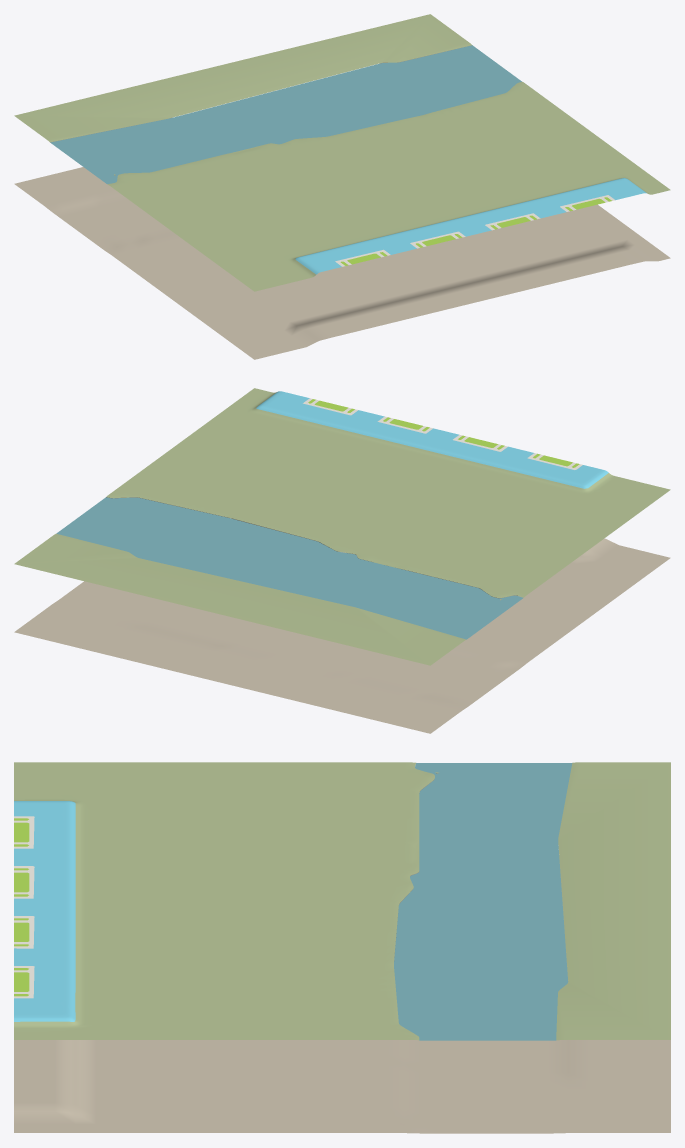
3 renders of one model, top to bottom at view 1: azimuth 30°, elevation 25°; view 2: azimuth 150°, elevation 25°; view 3: azimuth 270°, elevation 25°, orthographic. The views are drawn at different scales.
Visible parts, largest first — view 1: s_-3_-7__grass, s_-3_-7__soil, s_-3_-7__water, s_-3_-7__tennis_blue, s_-3_-7__tennis_lime, s_-3_-7__white_marking; view 2: s_-3_-7__grass, s_-3_-7__soil, s_-3_-7__water, s_-3_-7__tennis_blue, s_-3_-7__tennis_lime, s_-3_-7__white_marking; view 3: s_-3_-7__grass, s_-3_-7__soil, s_-3_-7__water, s_-3_-7__tennis_blue, s_-3_-7__tennis_lime, s_-3_-7__white_marking.
Boxes of the visible parts, left/top/right/bottom form: s_-3_-7__grass: left=14, top=14, right=670, bottom=291; s_-3_-7__soil: left=14, top=167, right=670, bottom=359; s_-3_-7__water: left=50, top=45, right=521, bottom=184; s_-3_-7__tennis_blue: left=295, top=178, right=646, bottom=274; s_-3_-7__tennis_lime: left=340, top=197, right=611, bottom=265; s_-3_-7__white_marking: left=335, top=195, right=614, bottom=266; s_-3_-7__grass: left=14, top=388, right=670, bottom=665; s_-3_-7__soil: left=14, top=518, right=670, bottom=733; s_-3_-7__water: left=56, top=497, right=522, bottom=639; s_-3_-7__tennis_blue: left=256, top=391, right=608, bottom=488; s_-3_-7__tennis_lime: left=308, top=399, right=579, bottom=467; s_-3_-7__white_marking: left=303, top=398, right=582, bottom=469; s_-3_-7__grass: left=14, top=762, right=670, bottom=1040; s_-3_-7__soil: left=14, top=1040, right=670, bottom=1133; s_-3_-7__water: left=394, top=763, right=572, bottom=1040; s_-3_-7__tennis_blue: left=14, top=801, right=75, bottom=1021; s_-3_-7__tennis_lime: left=14, top=818, right=29, bottom=996; s_-3_-7__white_marking: left=14, top=816, right=34, bottom=998.
Bounding box in the file's own units: 128 × 21.14 × 128.
